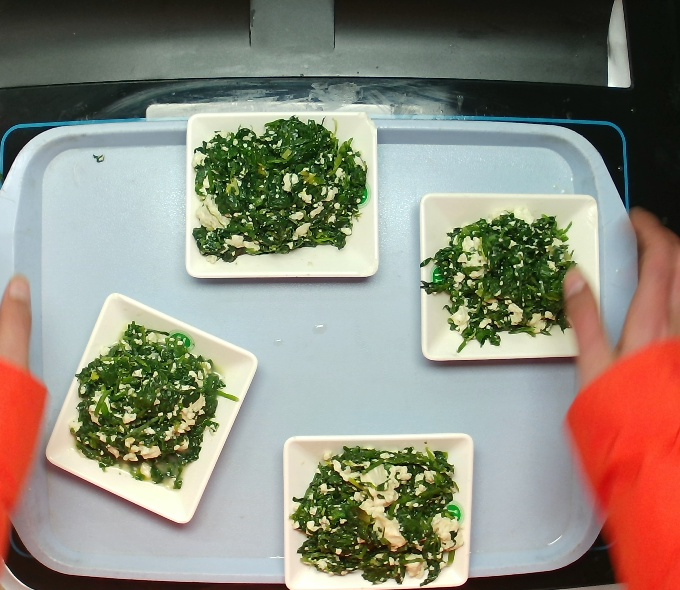wcq-QinCaiYeDouFu: (281, 431, 474, 589), (182, 110, 373, 269), (413, 195, 591, 364), (71, 322, 233, 486)
